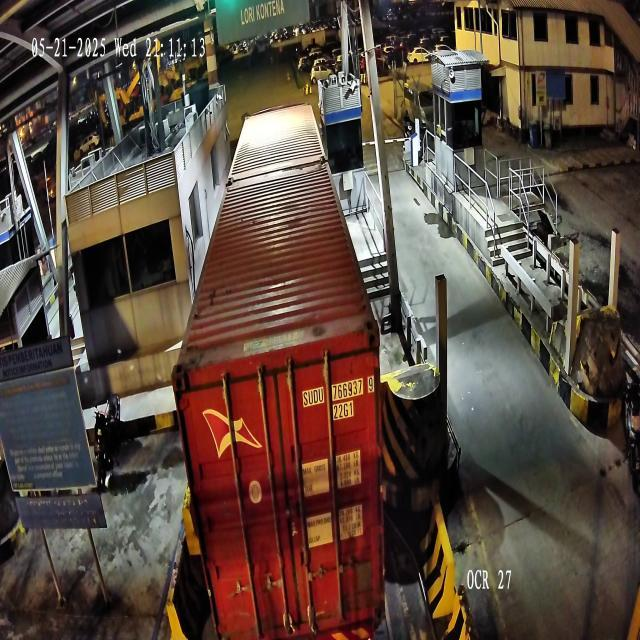ISO: (333, 400, 354, 420)
container_number: (302, 376, 375, 408)
